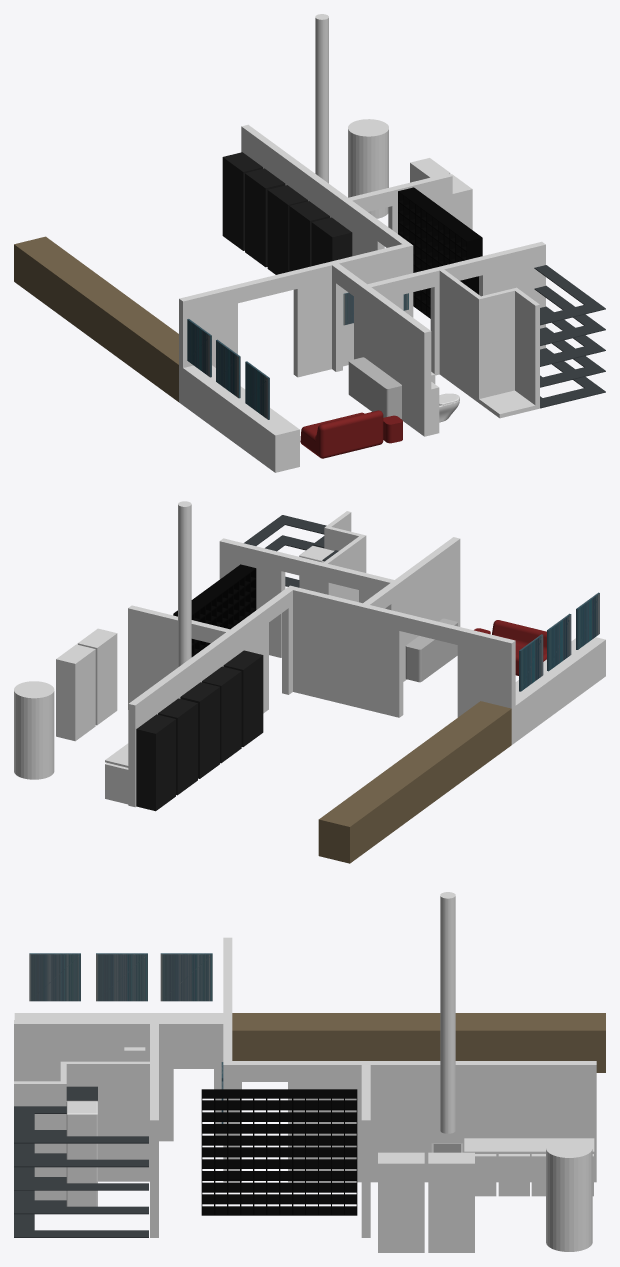
3 renders of one model, top to bottom at view 1: azimuth 30°, elevation 25°; view 2: azimuth 150°, elevation 25°; view 3: azimuth 270°, elevation 25°, orthographic. The views are drawn at different scales.
Parts seen in each view (by area): view 1: _Wand.013, _Wand.019, Curve.065, _Wand.012, _Wand.014, Curve.067, _Wand.016, Curve.070, Curve.069, _Wand.017, Curve.068, Cylinder.002 (+18 smaller); view 2: _Wand.013, _Wand.014, _Wand.012, _Wand.019, Curve.070, Curve.065, _Wand.015, Cylinder.002, Curve.068, Curve.069, Curve.071, Curve.078 (+18 smaller); view 3: _Wand.014, Curve.067, _Wand.019, _Wand.016, Curve.070, Curve.068, Curve.069, Cylinder.002, _KellerRegal.006, Curve.077, Curve.078, WäscheRohr.001 (+16 smaller).
Boxes of the visible parts, x1,y1,x2,y2 form: _Wand.013: [179, 242, 413, 404]; _Wand.019: [332, 263, 431, 436]; Curve.065: [182, 365, 299, 472]; _Wand.012: [368, 241, 545, 375]; _Wand.014: [241, 124, 408, 256]; Curve.067: [398, 187, 482, 318]; _Wand.016: [439, 269, 483, 402]; Curve.070: [14, 236, 100, 321]; Curve.069: [69, 277, 155, 361]; _Wand.017: [481, 287, 518, 397]; Curve.068: [124, 317, 178, 401]; Cylinder.002: [348, 119, 388, 218]; _Wand.013: [286, 585, 515, 744]; _Wand.014: [128, 588, 292, 807]; _Wand.012: [219, 538, 393, 657]; _Wand.019: [362, 537, 460, 681]; Curve.070: [318, 780, 403, 863]; Curve.065: [515, 637, 605, 742]; _Wand.015: [128, 605, 229, 709]; Cylinder.002: [14, 681, 54, 779]; Curve.068: [427, 701, 511, 784]; Curve.069: [373, 740, 457, 823]; Curve.071: [136, 714, 175, 811]; Curve.078: [56, 644, 95, 741]; _Wand.014: [232, 1061, 596, 1182]; Curve.067: [201, 1089, 357, 1215]; _Wand.019: [14, 1020, 225, 1141]; _Wand.016: [60, 1061, 149, 1181]; Curve.070: [481, 1013, 605, 1072]; Curve.068: [232, 1013, 356, 1060]; Curve.069: [357, 1013, 481, 1060]; Cylinder.002: [546, 1138, 592, 1251]; _KellerRegal.006: [34, 1136, 148, 1237]; Curve.077: [378, 1152, 424, 1252]; Curve.078: [428, 1152, 474, 1252]; WäscheRohr.001: [440, 892, 455, 1133].
Bounding box in the file's own units: 9.02 × 6.2 × 11.41.
20 materials, 5 textured.
